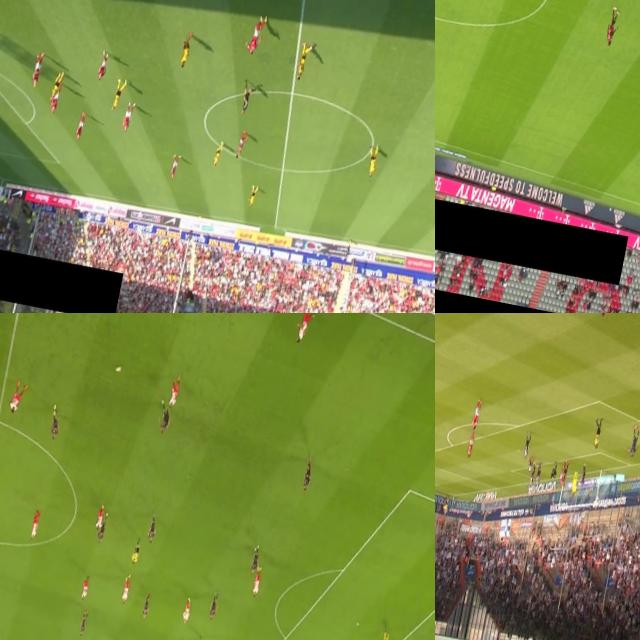ball: (115, 366, 122, 376)
player: (242, 8, 270, 61), (292, 38, 316, 86), (602, 5, 622, 50), (8, 376, 26, 418), (363, 142, 381, 182), (110, 74, 128, 114), (29, 49, 46, 90), (177, 30, 194, 70), (142, 514, 160, 550), (120, 100, 136, 134), (46, 406, 62, 440), (50, 68, 65, 104), (301, 458, 315, 496), (94, 512, 108, 550), (156, 401, 172, 433), (48, 81, 62, 116), (166, 375, 180, 410), (234, 128, 249, 160), (96, 48, 110, 82), (77, 570, 91, 604), (28, 507, 42, 541), (471, 397, 484, 432), (74, 110, 88, 142), (76, 608, 92, 636), (212, 139, 226, 170), (120, 572, 133, 605), (251, 566, 263, 600), (628, 425, 640, 458), (138, 592, 152, 620), (181, 597, 193, 628), (169, 153, 182, 180), (568, 470, 580, 496), (521, 432, 532, 460), (95, 504, 106, 530), (559, 462, 570, 488), (466, 434, 477, 459), (248, 184, 258, 210), (579, 462, 588, 490), (208, 595, 218, 620), (377, 625, 392, 640), (528, 466, 537, 490), (549, 464, 560, 483), (251, 548, 259, 571), (534, 466, 542, 488), (636, 60, 640, 102), (562, 466, 570, 484), (527, 456, 534, 474), (191, 633, 205, 640)
